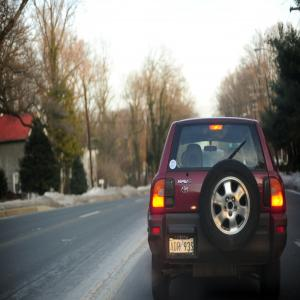Vehicle-registration-plate: (170, 234, 196, 258)
